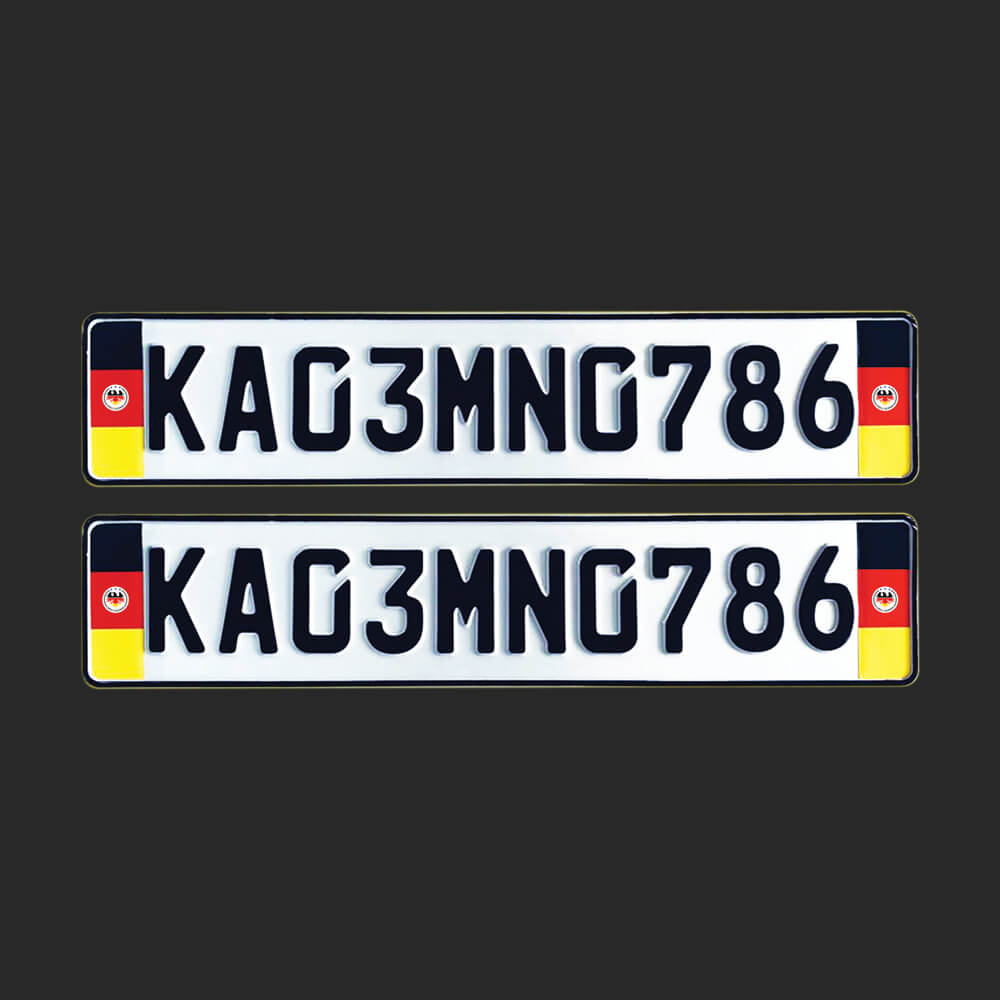number_plate: (80, 511, 923, 693), (78, 310, 925, 490)
